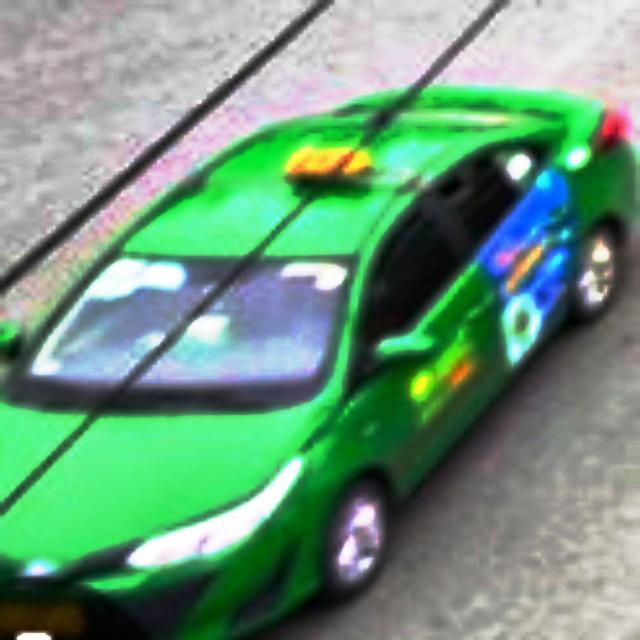Car: (0, 83, 636, 639)
